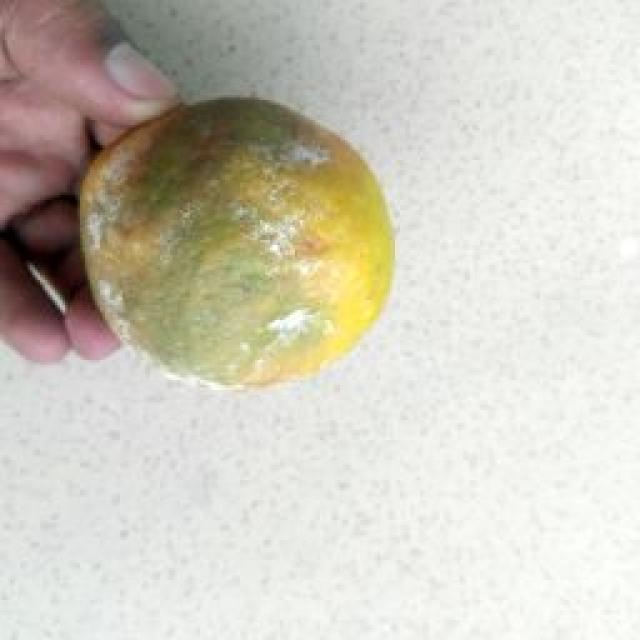Bad_Orange: (80, 99, 392, 386)
